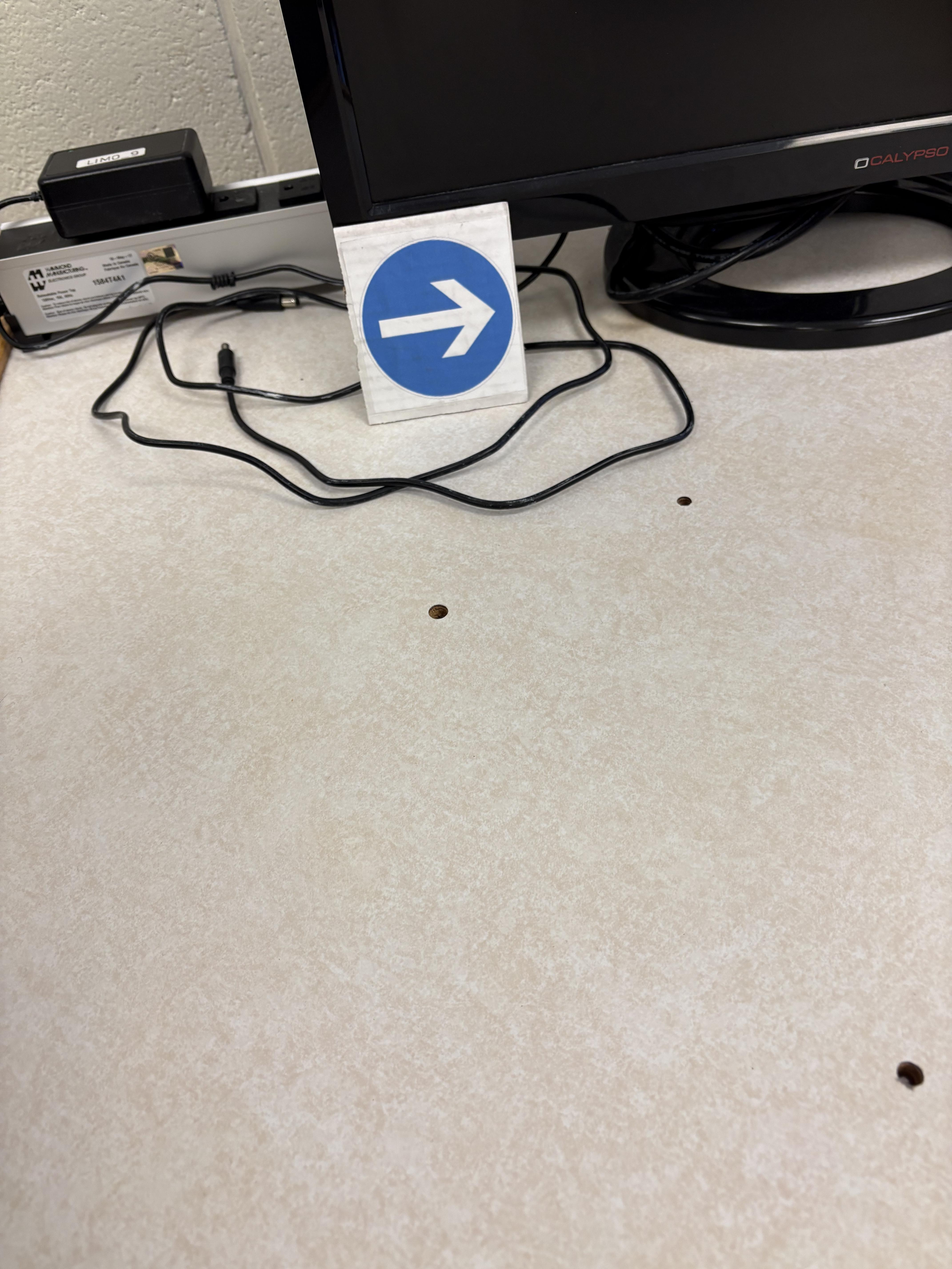Proceed Right: (252, 268, 403, 577)
